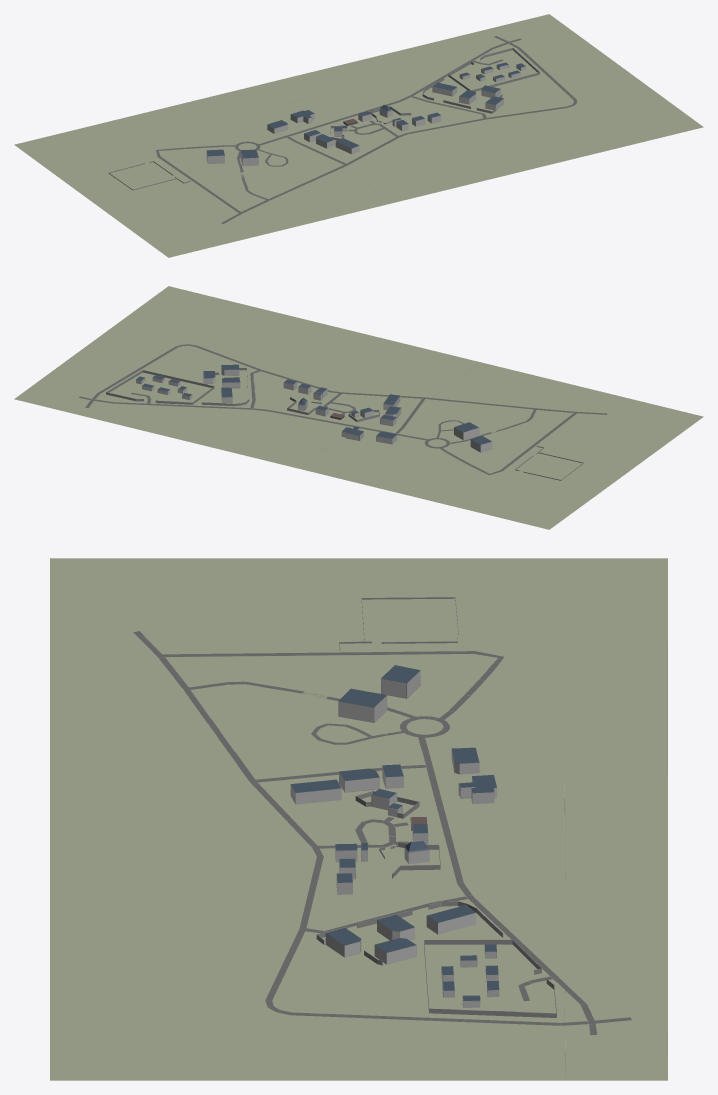
File: map.obj
3 renders of one model, top to bottom at view 1: azimuth 30°, elevation 25°; view 2: azimuth 150°, elevation 25°; view 3: azimuth 270°, elevation 25°, orthographic. The views are drawn at different scales.
Parts seen in each view (by area): view 1: RoadJunction9; view 2: RoadJunction9; view 3: RoadJunction9.
Boxes of the visible parts, x1,y1,x2,y2 form: RoadJunction9: (14,14,703,257); RoadJunction9: (14,286,703,529); RoadJunction9: (50,558,667,1080).
Bounding box in the file's own units: 720 × 15.5 × 360.
Materials: 1 (1 with a texture image).
